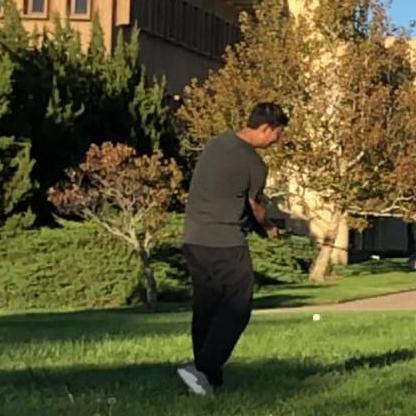golfball: (310, 310, 320, 320)
